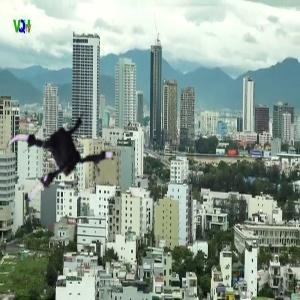drone: (5, 96, 125, 216)
